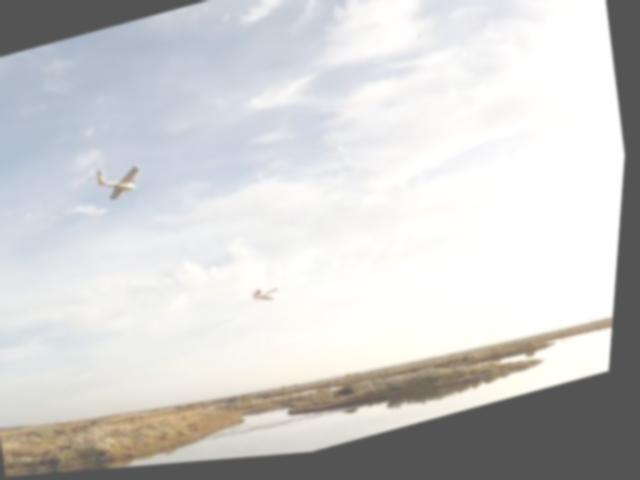uav: (90, 160, 148, 211), (256, 289, 289, 312)
